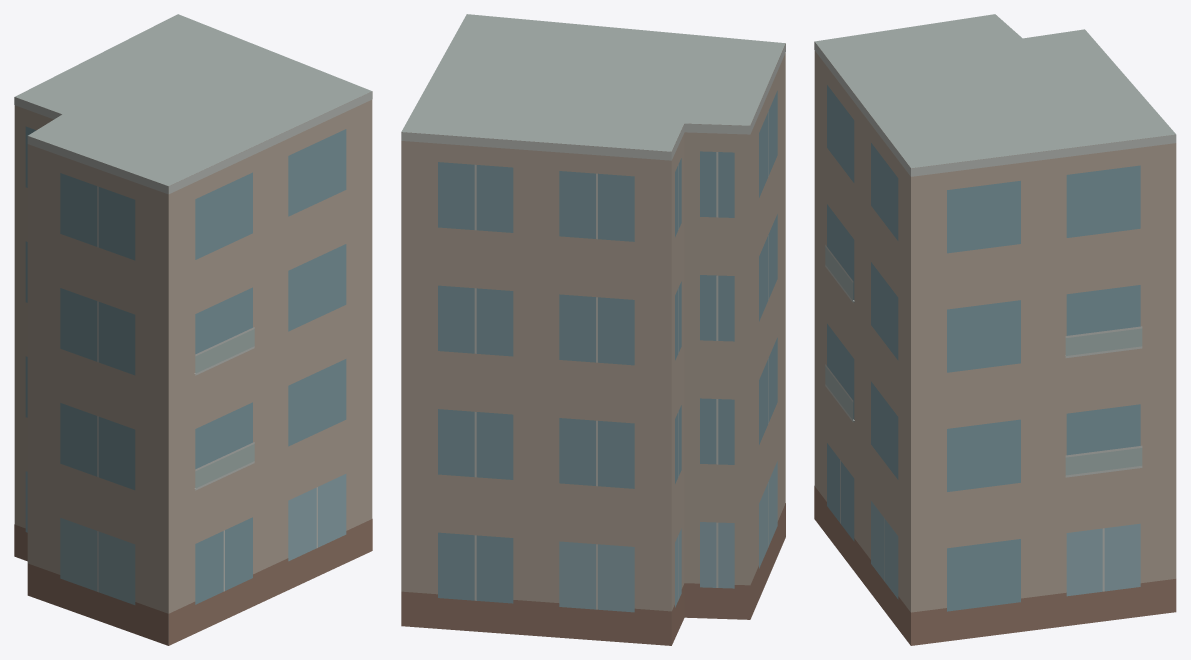
File: survey-upis-32465763.glb
3 renders of one model, left to right at view 1: azimuth 30°, elevation 25°; view 2: azimuth 150°, elevation 25°; view 3: azimuth 270°, elevation 25°, orthographic. The views are drawn at different scales.
Visible parts, largest first — view 1: survey-upis-32465763.tmp; view 2: survey-upis-32465763.tmp; view 3: survey-upis-32465763.tmp.
Part boxes in pixels (x1,y1,x2,y2): survey-upis-32465763.tmp: [14, 14, 372, 645]; survey-upis-32465763.tmp: [401, 14, 785, 645]; survey-upis-32465763.tmp: [814, 14, 1176, 645].
Size of the model in its own units: 9.43 by 13.6 by 9.35.
